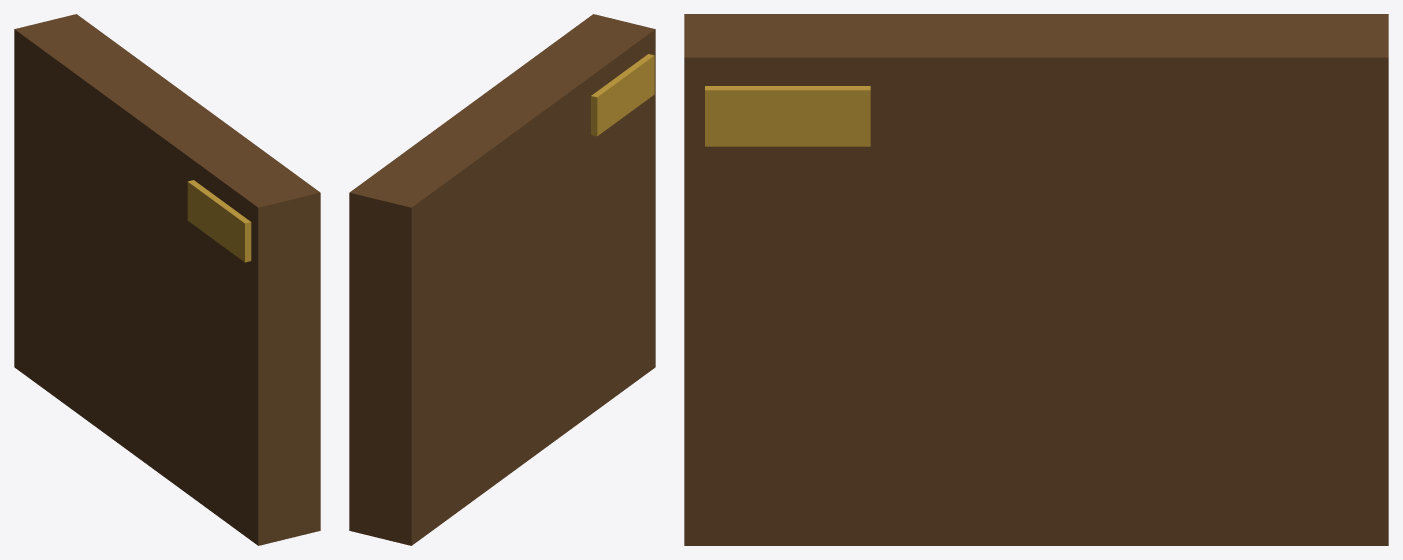
File: person-folder.glb
3 renders of one model, left to right at view 1: azimuth 30°, elevation 25°; view 2: azimuth 150°, elevation 25°; view 3: azimuth 270°, elevation 25°, orthographic. The views are drawn at different scales.
Parts seen in each view (by area): view 1: 00_#6a4a2a_r110, 01_#c9a13a_noshadow_r110; view 2: 00_#6a4a2a_r110, 01_#c9a13a_noshadow_r110; view 3: 00_#6a4a2a_r110, 01_#c9a13a_noshadow_r110.
Boxes of the visible parts, x1=… form: 00_#6a4a2a_r110: x1=14, y1=14, x2=320, y2=545; 01_#c9a13a_noshadow_r110: x1=187, y1=180, x2=251, y2=262; 00_#6a4a2a_r110: x1=349, y1=14, x2=655, y2=545; 01_#c9a13a_noshadow_r110: x1=591, y1=54, x2=654, y2=136; 00_#6a4a2a_r110: x1=684, y1=14, x2=1388, y2=545; 01_#c9a13a_noshadow_r110: x1=705, y1=86, x2=870, y2=146.
Bounding box in the file's own units: 0.06 × 0.26 × 0.34.
